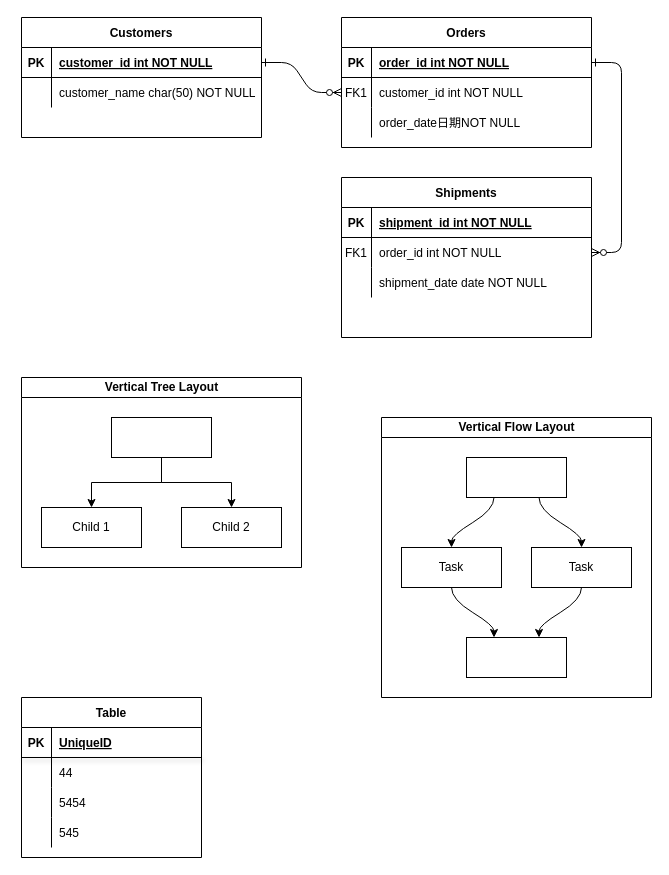
The diagram is 669 pixels wide and 875 high, and some of its shapes have lost their labels. Here are the shapes that lost their labels. From the top down, the centre of each, then its label:
At (x=161, y=437): "Root".
At (x=516, y=477): "Start".
At (x=516, y=657): "End".
